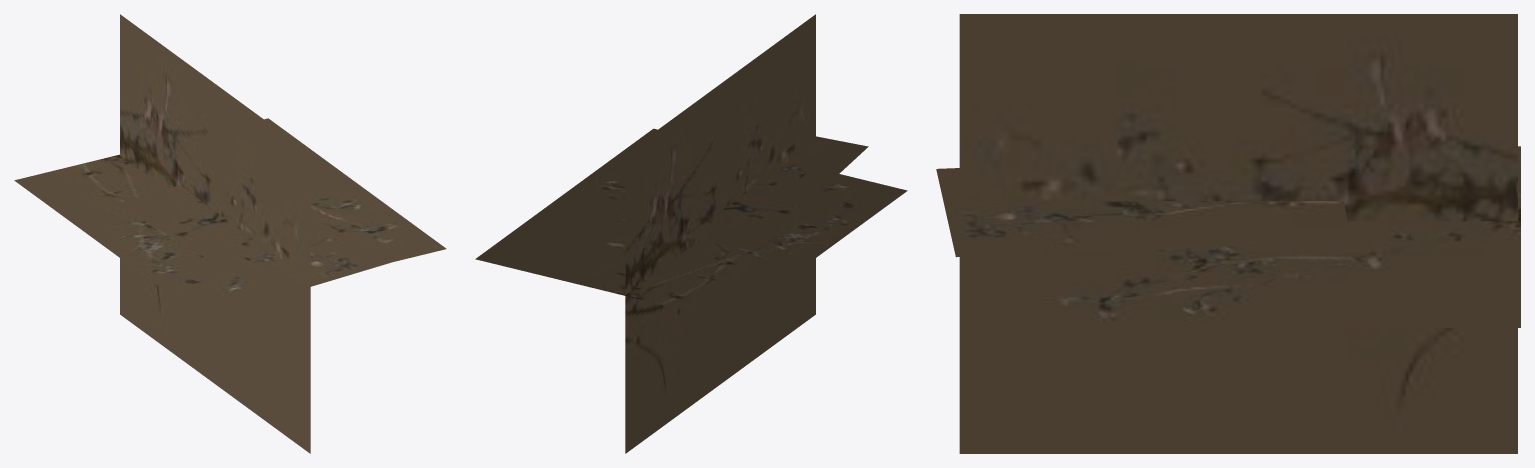
Rendered from brush_desertshrubgrayshort.glb.
3 views of the same model, side by side, from view 1: azimuth 30°, elevation 25°; view 2: azimuth 150°, elevation 25°; view 3: azimuth 270°, elevation 25° (orthographic). The views are drawn at different scales.
Size of the model in its own units: 15.36 by 17.33 by 20.88.
1 material, 1 textured.
